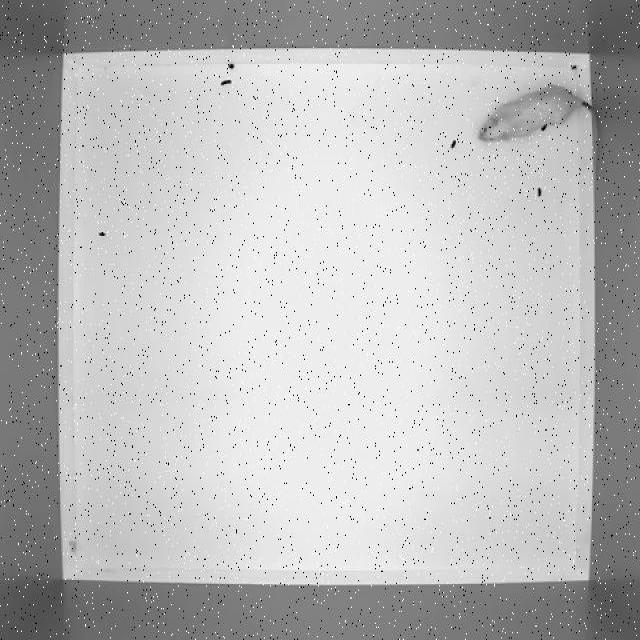rat: (476, 83, 604, 148)
